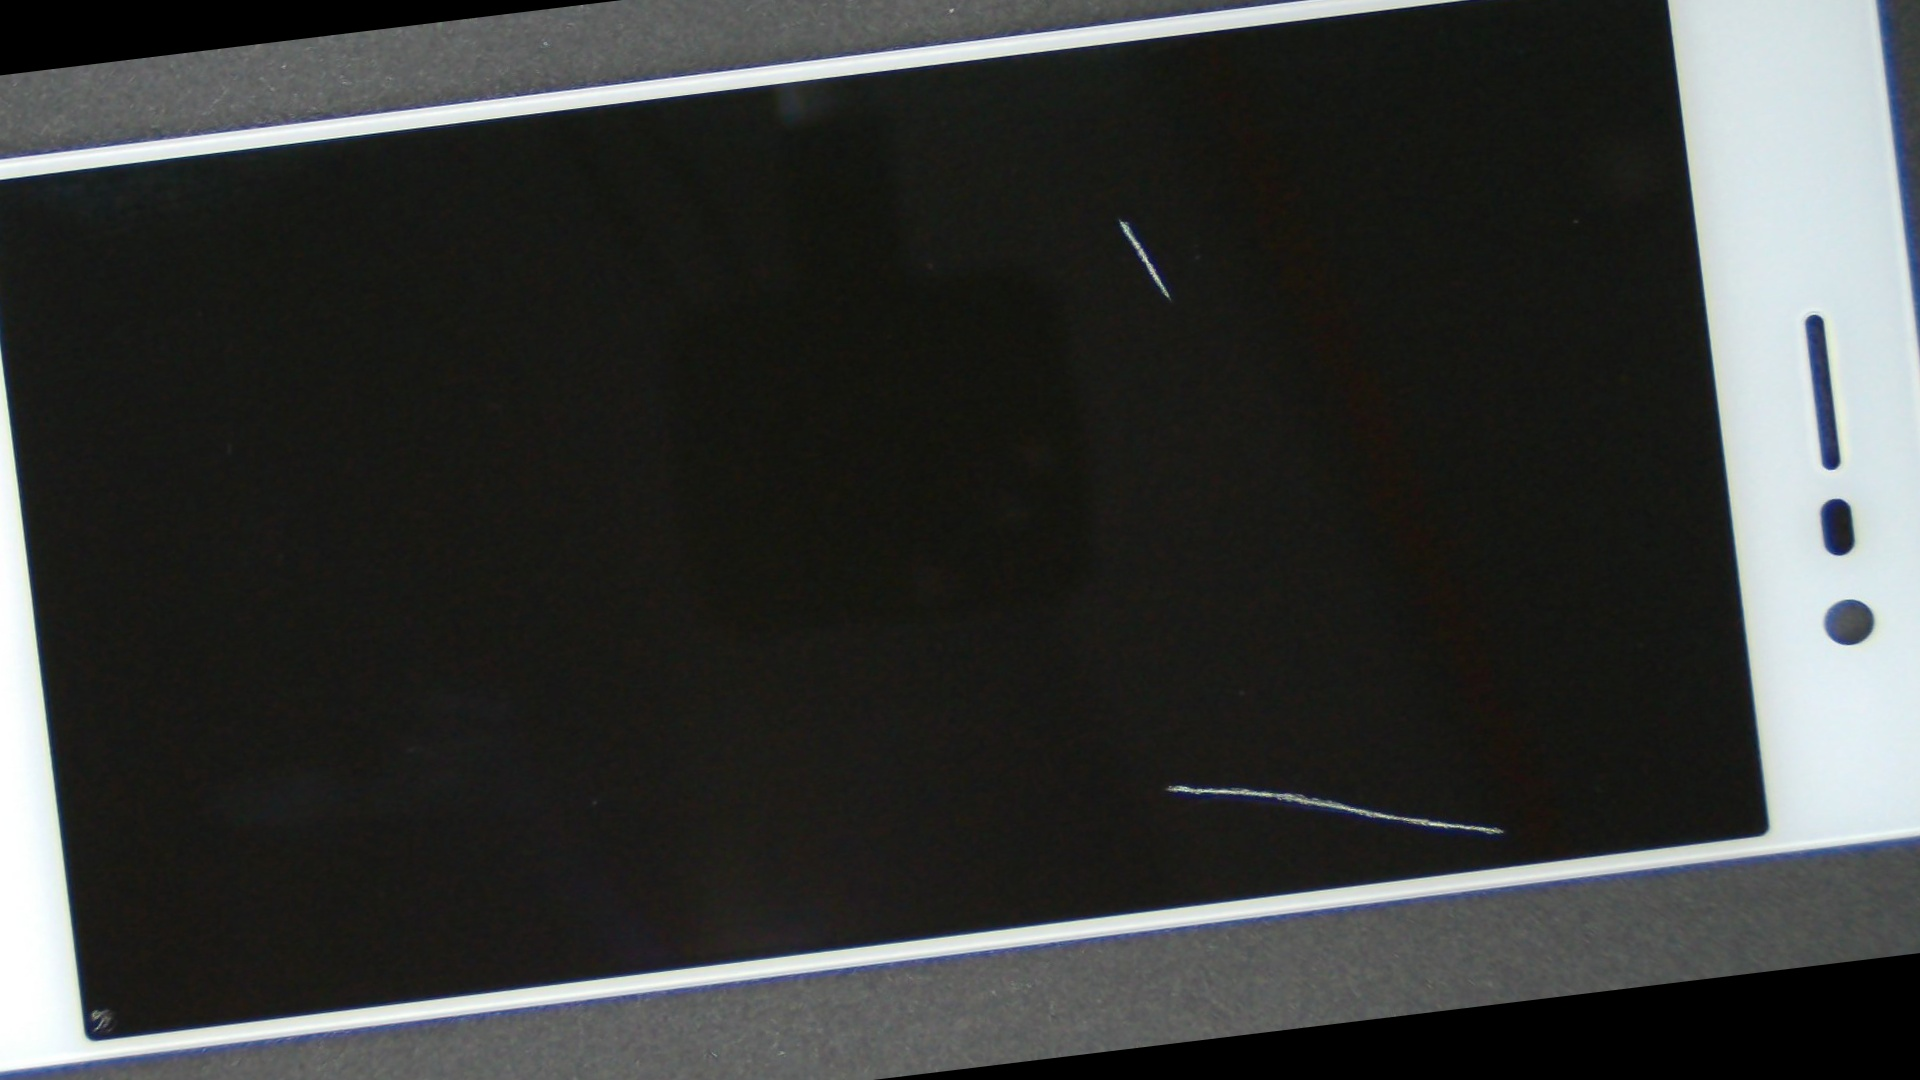oil: (454, 284, 1867, 1080), (427, 0, 1811, 436), (0, 527, 235, 1080)
